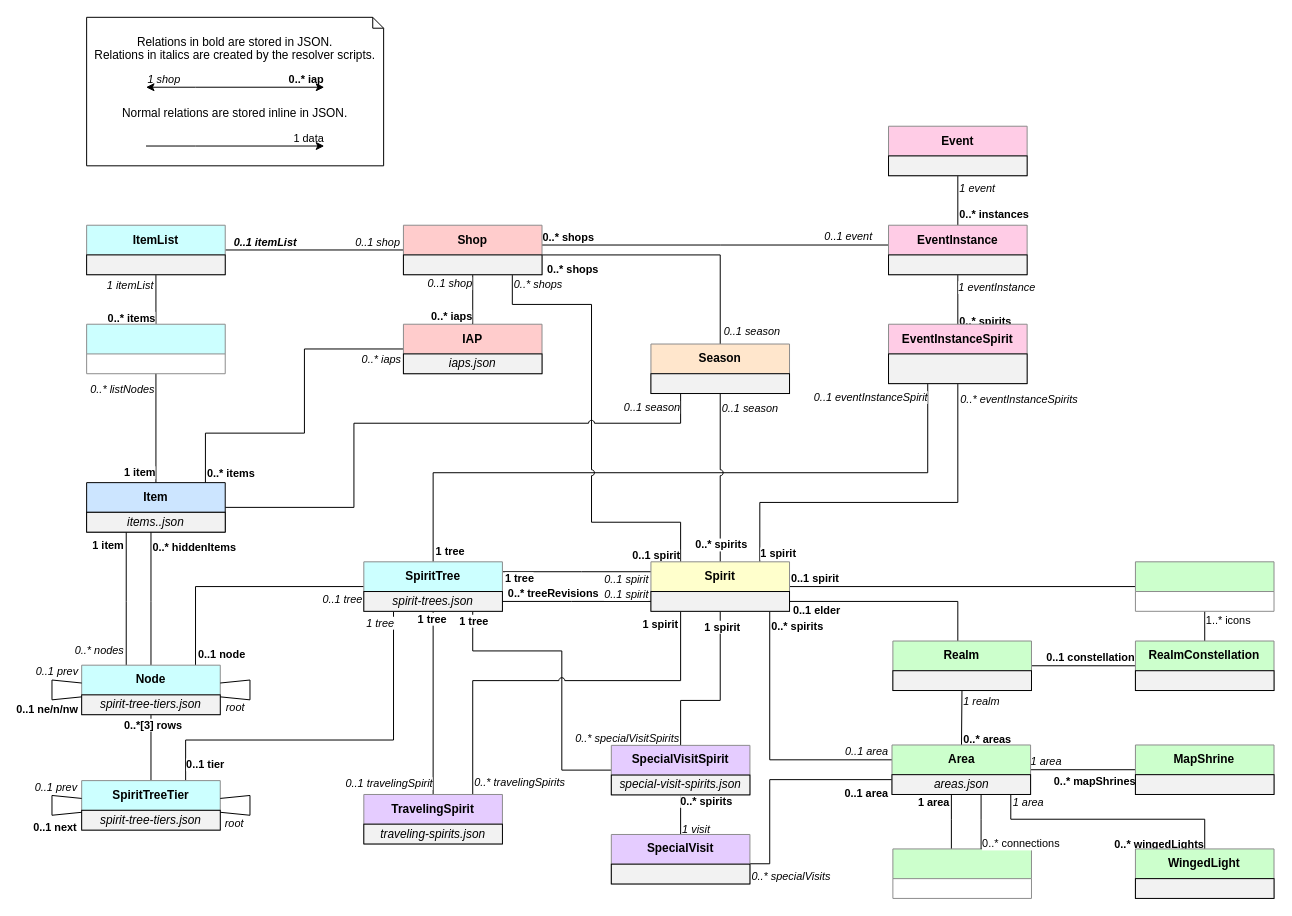
This 1292x916 diagram has some shape labels left out. Each missing label, with the centre of its shape:
AreaConnection: point (961, 873)
constellations.json: point (1204, 680)
event-instance-spirits.json: point (957, 368)
event-instances.json: point (957, 264)
events.json: point (957, 165)
item-lists.json: point (155, 264)
ItemListNode: point (155, 348)
map-shrines.json: point (1204, 784)
RealmConstellationIcon: point (1204, 586)
realms.json: point (961, 680)
seasons.json: point (720, 383)
shops.json: point (472, 264)
special-visits.json: point (680, 873)
spirits.json: point (720, 601)
winged-lights.json: point (1204, 888)
